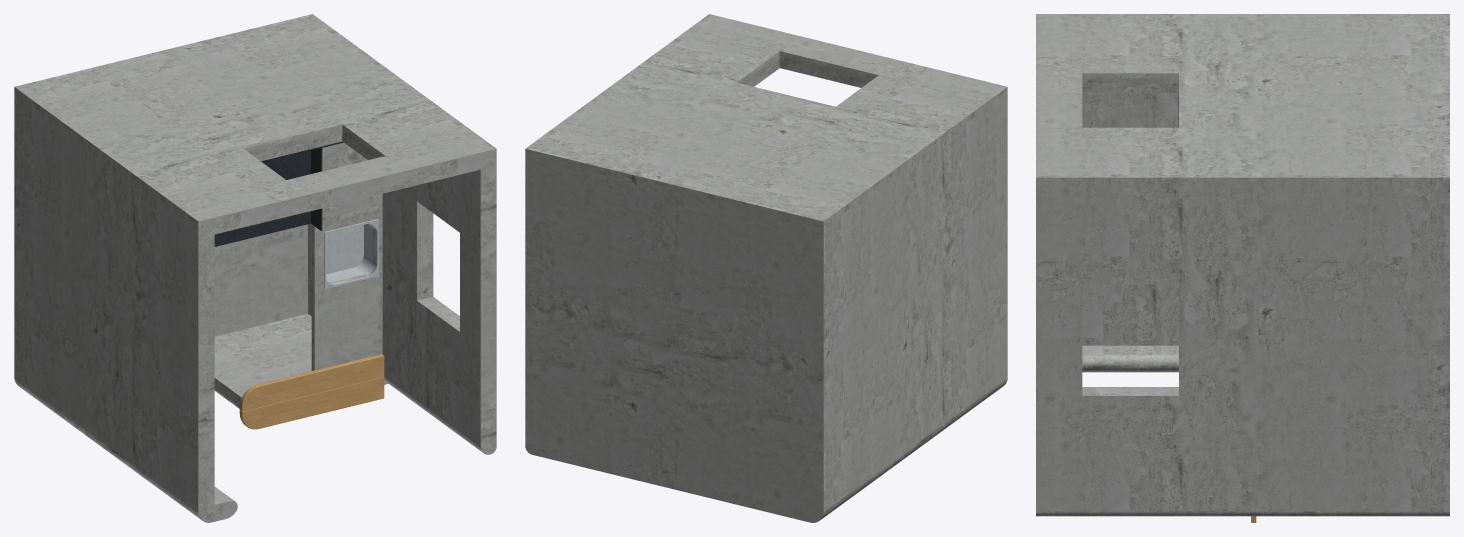
The model's file is barbacoa-mwrq7qbe.glb.
3 views of the same model, side by side, from view 1: azimuth 30°, elevation 25°; view 2: azimuth 150°, elevation 25°; view 3: azimuth 270°, elevation 25° (orthographic). The views are drawn at different scales.
Parts seen in each view (by area): view 1: Body14, Body16, Body7, Body15, Body11, Body2, Body6, Body5, Body9; view 2: Body16, Body14; view 3: Body14, Body16.
Part boxes in pixels (x1,y1,x2,y2): Body14: [100, 77, 496, 522]; Body16: [14, 14, 398, 448]; Body7: [311, 204, 382, 370]; Body15: [239, 354, 384, 411]; Body11: [310, 219, 378, 289]; Body2: [239, 377, 384, 429]; Body6: [214, 150, 310, 246]; Body5: [338, 142, 382, 214]; Body9: [322, 144, 338, 230]; Body16: [525, 85, 909, 522]; Body14: [612, 14, 1007, 457]; Body14: [1036, 14, 1256, 516]; Body16: [1256, 14, 1449, 516].
Bounding box in the file's own units: 2.2 × 2.22 × 2.35.
4 materials, 4 textured.
